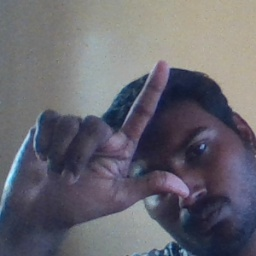L: (8, 58, 191, 230)
